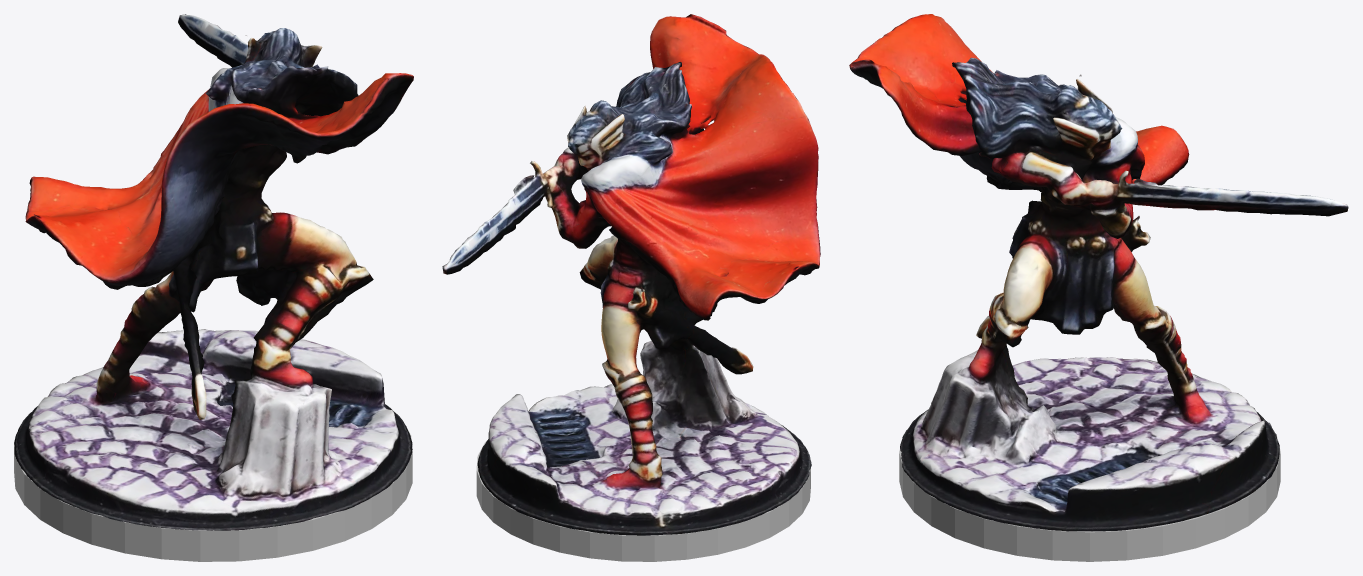
3 renders of one model, left to right at view 1: azimuth 30°, elevation 25°; view 2: azimuth 150°, elevation 25°; view 3: azimuth 270°, elevation 25°, orthographic. The views are drawn at different scales.
Parts seen in each view (by area): view 1: default, LadySif; view 2: default, LadySif; view 3: default, LadySif.
Part boxes in pixels (<box>): default: <box>14,14,413,530</box>; LadySif: <box>14,404,412,561</box>; default: <box>442,14,820,535</box>; LadySif: <box>476,433,810,561</box>; default: <box>849,14,1348,531</box>; LadySif: <box>899,436,1280,561</box>.
Size of the model in its own units: 1.41 by 1.78 by 1.8.
Materials: 2 (1 with a texture image).
